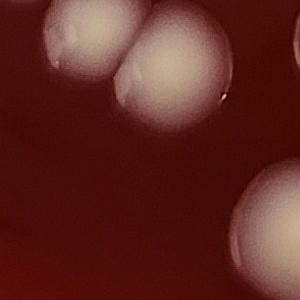colony: (111, 0, 243, 145), (219, 152, 300, 300), (41, 0, 159, 85), (287, 7, 300, 91)
